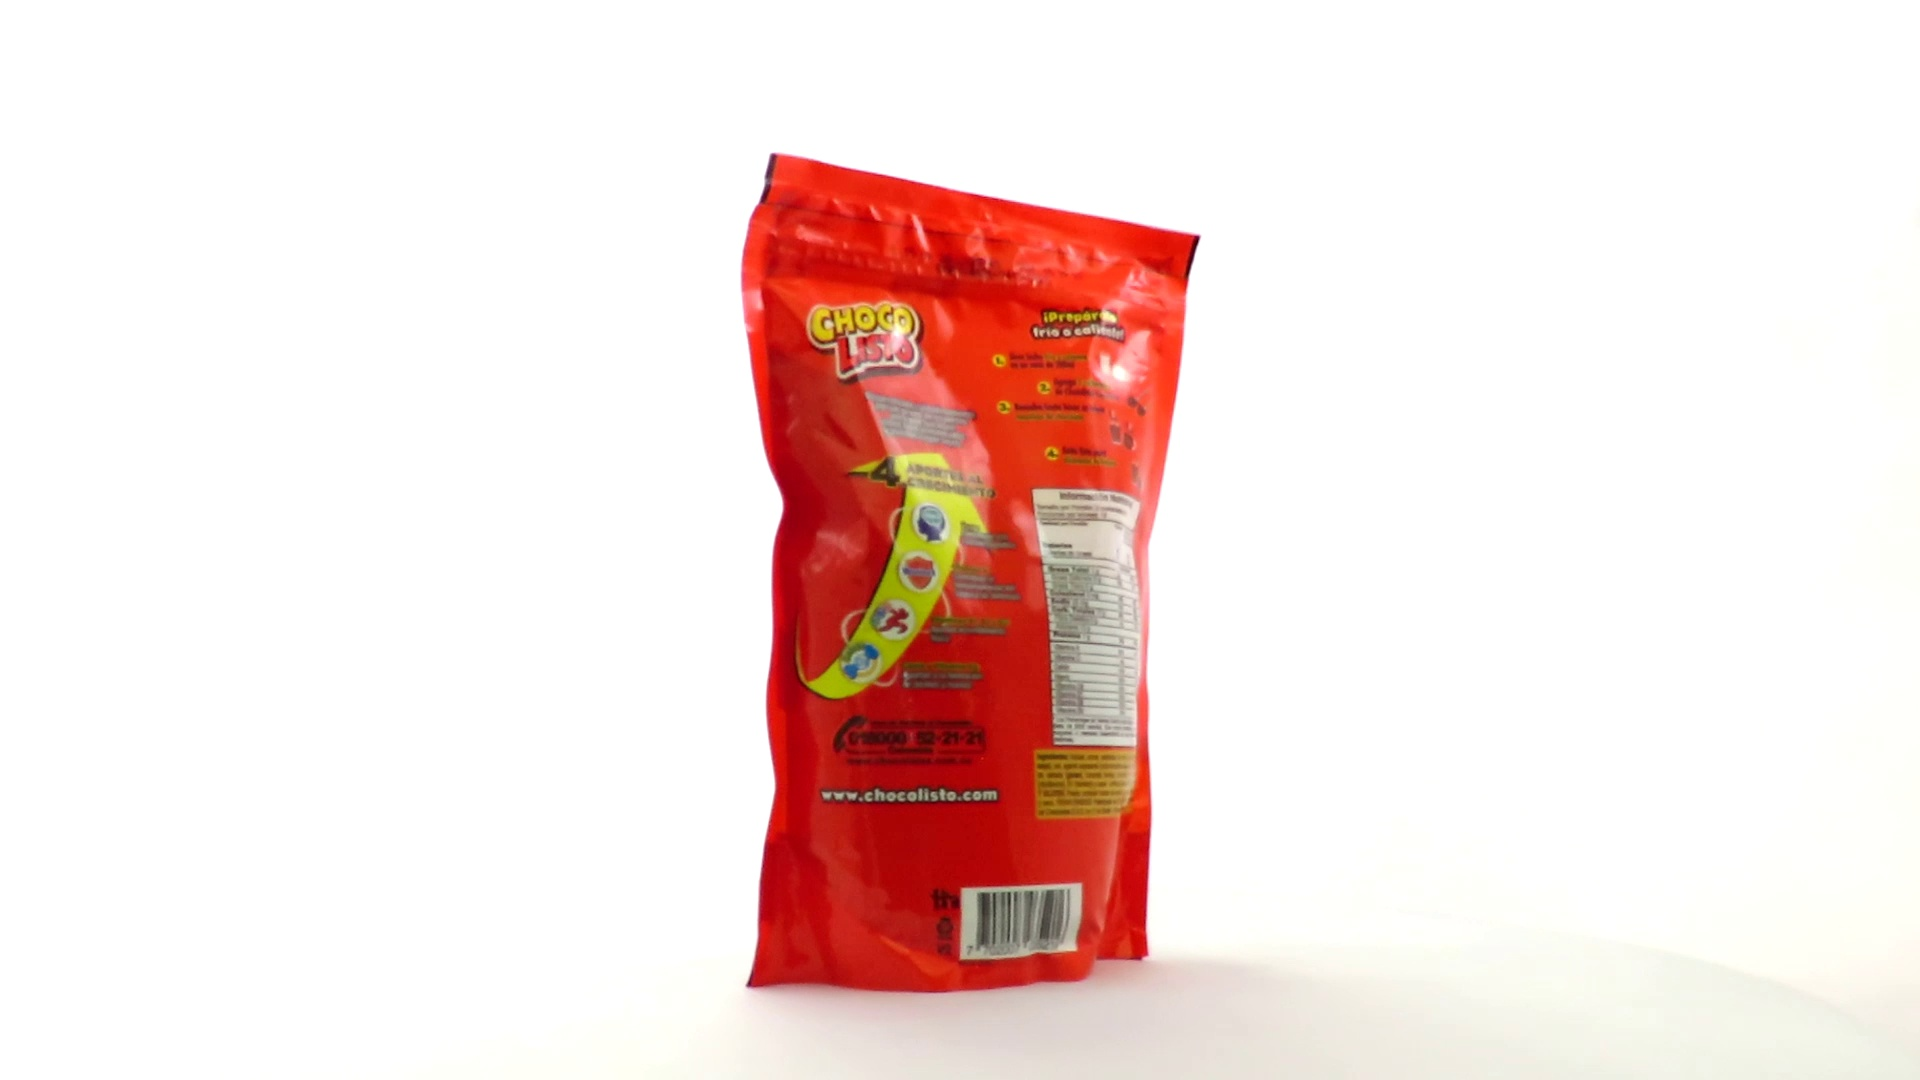COL0170103DYP36000: (736, 148, 1207, 1000)
